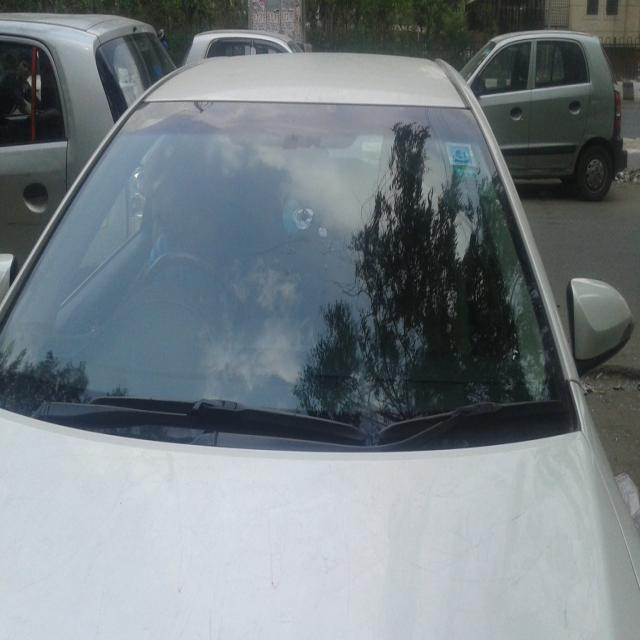Glass_Break: (280, 192, 330, 246)
